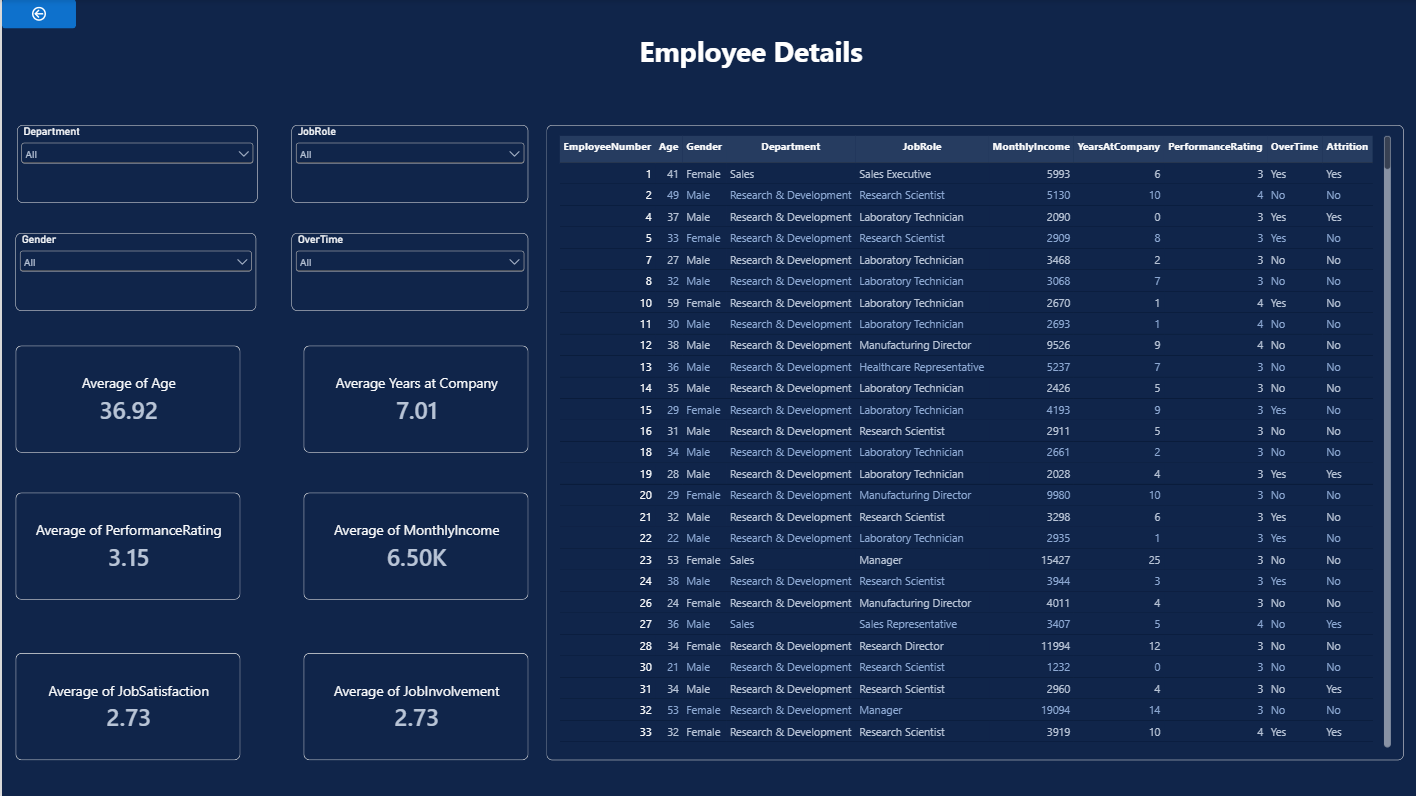

The dashboard page shown, as its layout file describes it:
{"tool":"powerbi","page":{"name":"Employee Details","canvas":[1920,1080],"ordinal":3},"visuals":[{"type":"actionButton","box":[0,0,100,40],"z":0},{"type":"textbox","box":[815.4,20.4,392.9,118.1],"z":1000},{"type":"cardVisual","fields":{"Data":["Avg(HR-Employee-Attrition.Age)"]},"box":[18.2,467.9,304.4,145],"z":2000},{"type":"cardVisual","fields":{"Data":["Avg(HR-Employee-Attrition.MonthlyIncome)"]},"box":[406.6,667.8,304.4,145.4],"z":3000},{"type":"cardVisual","fields":{"Data":["HR-Employee-Attrition.Average Years at Company"]},"box":[406.6,467.9,304,145],"z":4000},{"type":"cardVisual","fields":{"Data":["Avg(HR-Employee-Attrition.JobSatisfaction)"]},"box":[18.2,883.5,304.1,145],"z":5000},{"type":"cardVisual","fields":{"Data":["Avg(HR-Employee-Attrition.JobInvolvement)"]},"box":[406.6,883.5,304,145],"z":6000},{"type":"cardVisual","fields":{"Data":["Avg(HR-Employee-Attrition.PerformanceRating)"]},"box":[18.2,667.8,304.4,145],"z":7000},{"type":"tableEx","fields":{"Values":["HR-Employee-Attrition.EmployeeNumber","HR-Employee-Attrition.Age","HR-Employee-Attrition.Gender","HR-Employee-Attrition.Department","HR-Employee-Attrition.JobRole","HR-Employee-Attrition.MonthlyIncome","HR-Employee-Attrition.YearsAtCompany","HR-Employee-Attrition.PerformanceRating","HR-Employee-Attrition.OverTime","HR-Employee-Attrition.Attrition"]},"box":[735.9,170.3,1158.4,858.6],"z":8000},{"type":"slicer","fields":{"Values":["HR-Employee-Attrition.Department"]},"box":[20.4,170.3,325,105],"z":9000},{"type":"slicer","fields":{"Values":["HR-Employee-Attrition.JobRole"]},"box":[390.7,170.3,320,105],"z":10000},{"type":"slicer","fields":{"Values":["HR-Employee-Attrition.Gender"]},"box":[18.2,315.7,325,105],"z":11000},{"type":"slicer","fields":{"Values":["HR-Employee-Attrition.OverTime"]},"box":[390.7,315.7,320,105],"z":12000}]}

Visuals, with their boxes on the page's 1920x1080 design canvas (x1, y1, x2, y2). These are canvas units, not pixel positions in the 1416x796 screenshot, which may show the page scaled, cropped or inside an application window:
actionButton: detection(0, 0, 100, 40)
textbox: detection(815, 20, 1208, 138)
cardVisual - Avg(HR-Employee-Attrition.Age): detection(18, 468, 323, 613)
cardVisual - Avg(HR-Employee-Attrition.MonthlyIncome): detection(407, 668, 711, 813)
cardVisual - HR-Employee-Attrition.Average Years at Company: detection(407, 468, 711, 613)
cardVisual - Avg(HR-Employee-Attrition.JobSatisfaction): detection(18, 884, 322, 1028)
cardVisual - Avg(HR-Employee-Attrition.JobInvolvement): detection(407, 884, 711, 1028)
cardVisual - Avg(HR-Employee-Attrition.PerformanceRating): detection(18, 668, 323, 813)
tableEx - HR-Employee-Attrition.EmployeeNumber x HR-Employee-Attrition.Age: detection(736, 170, 1894, 1029)
slicer - HR-Employee-Attrition.Department: detection(20, 170, 345, 275)
slicer - HR-Employee-Attrition.JobRole: detection(391, 170, 711, 275)
slicer - HR-Employee-Attrition.Gender: detection(18, 316, 343, 421)
slicer - HR-Employee-Attrition.OverTime: detection(391, 316, 711, 421)
